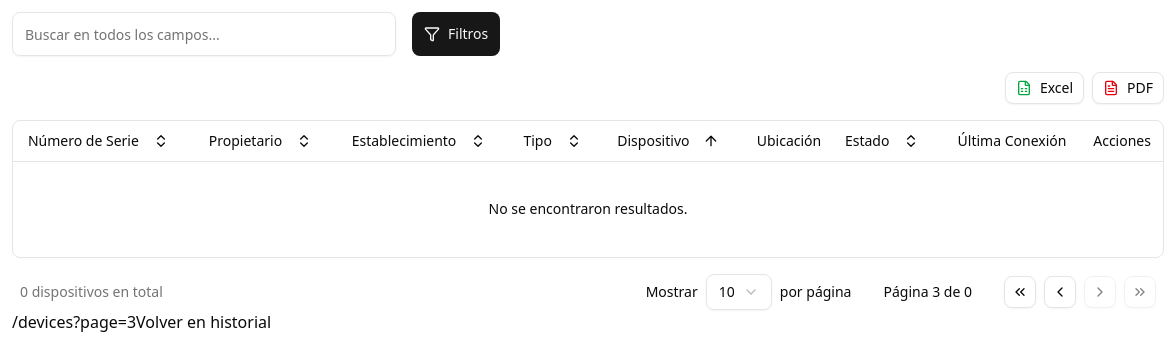
Test: DevicesTable responsive contract › sorts Establecimiento from the user list through the server
The image size is (1176, 350).
What coordinates should you click on to do the following:
click the button "Establecimiento"
I would click on:
 (419, 141)
Its box is [342,125,496,157].
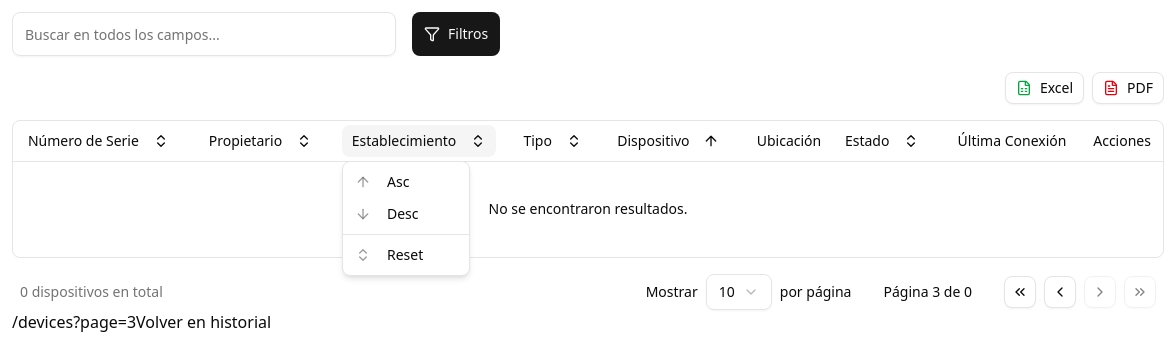
What coordinates should you click on to do the following:
click the menu item "Asc"
I would click on:
 (363, 182)
Its box is [355,172,409,191].
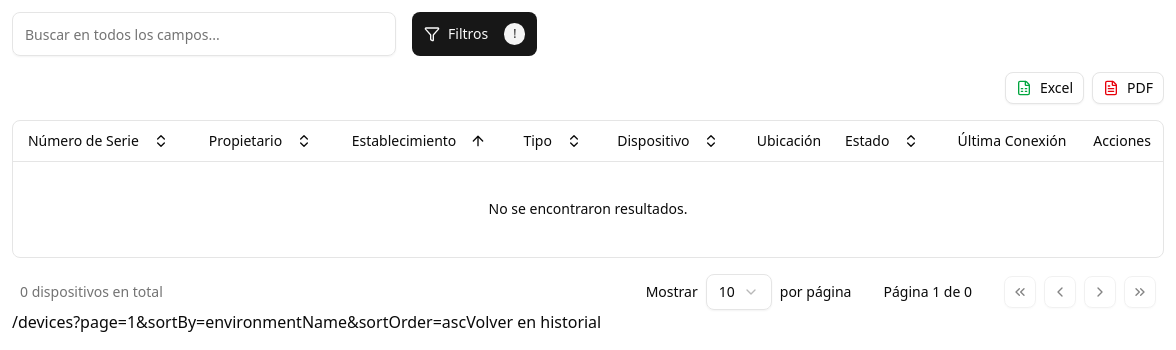
Now the text with test id "location" shows "page=1", box [73,311,466,333]
